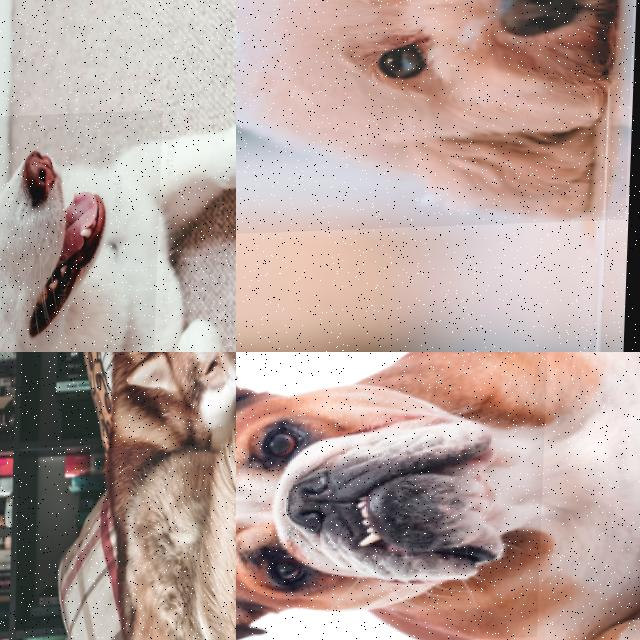bulldog: (236, 352, 548, 640)
husky: (0, 113, 163, 352), (110, 352, 236, 449)
poodle: (236, 0, 640, 240)
